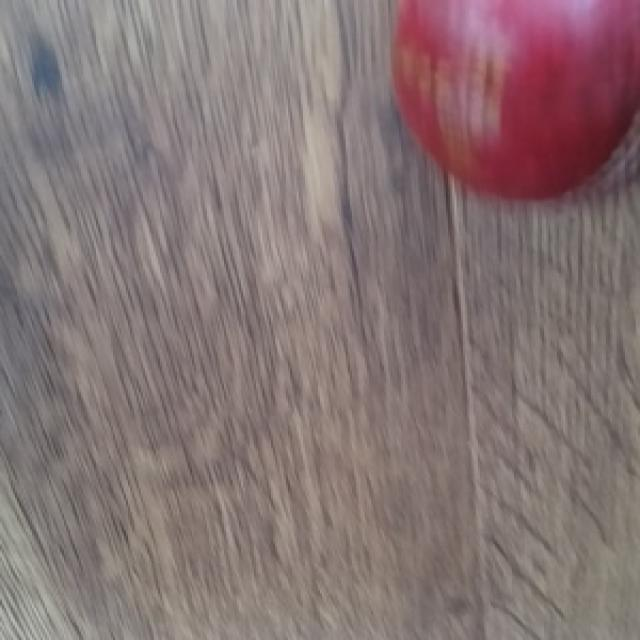ball: (390, 0, 640, 203)
